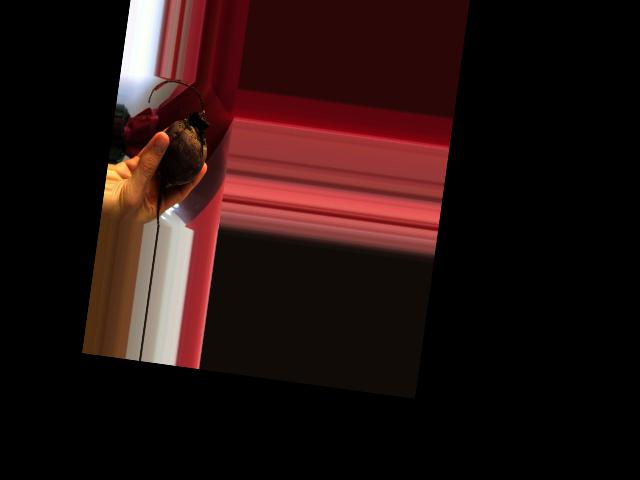beet: (131, 77, 215, 230)
